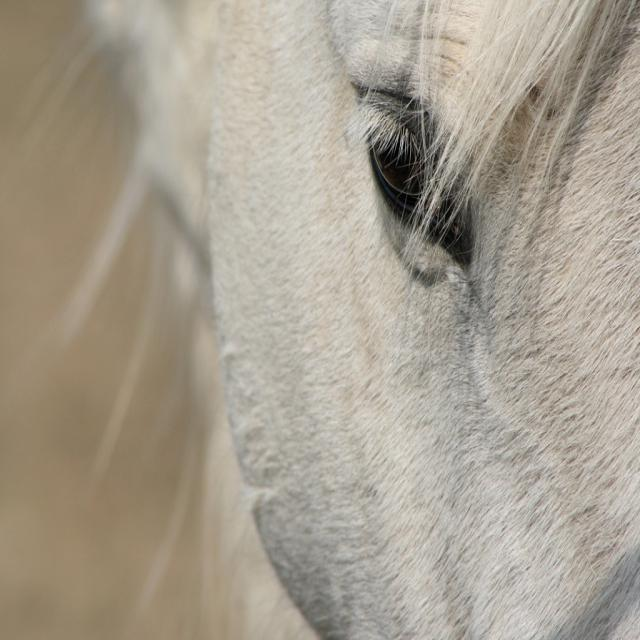Horse: (16, 1, 638, 640)
